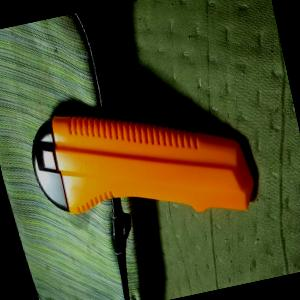estilete: (20, 74, 263, 254)
